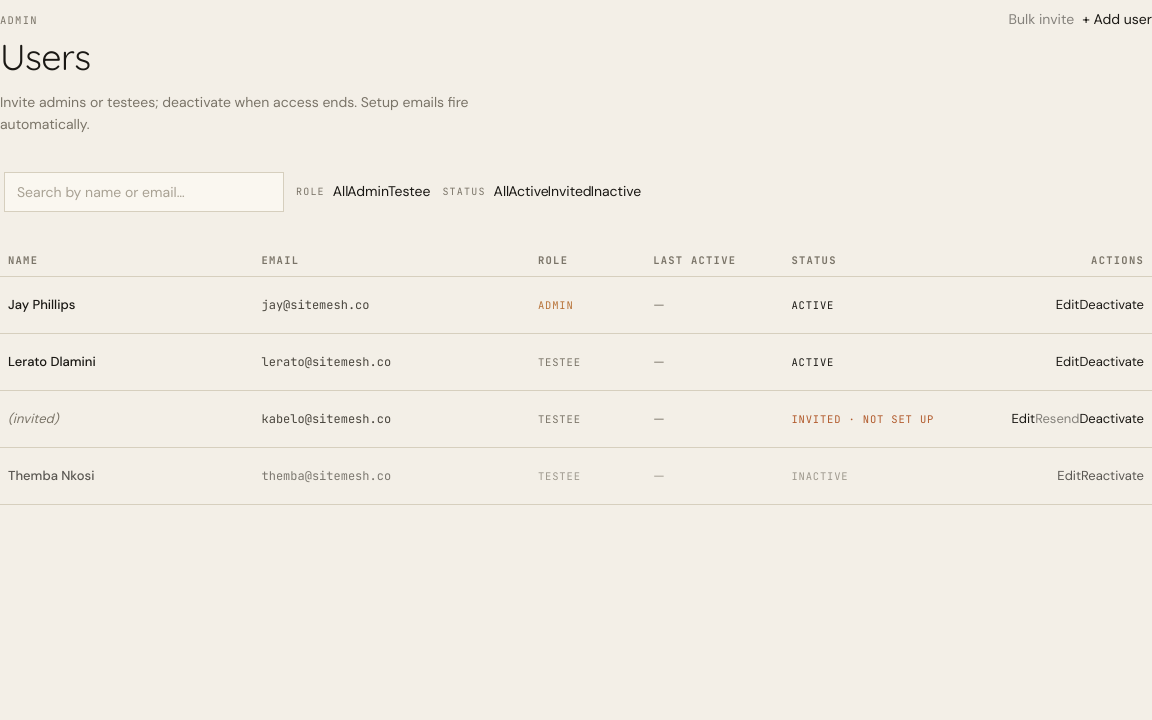
Test: users list — Add user flow › creates a user via POST and shows in the list
Click the button with test id "users-add-button".
click(1117, 20)  # box [1082,0,1151,40]
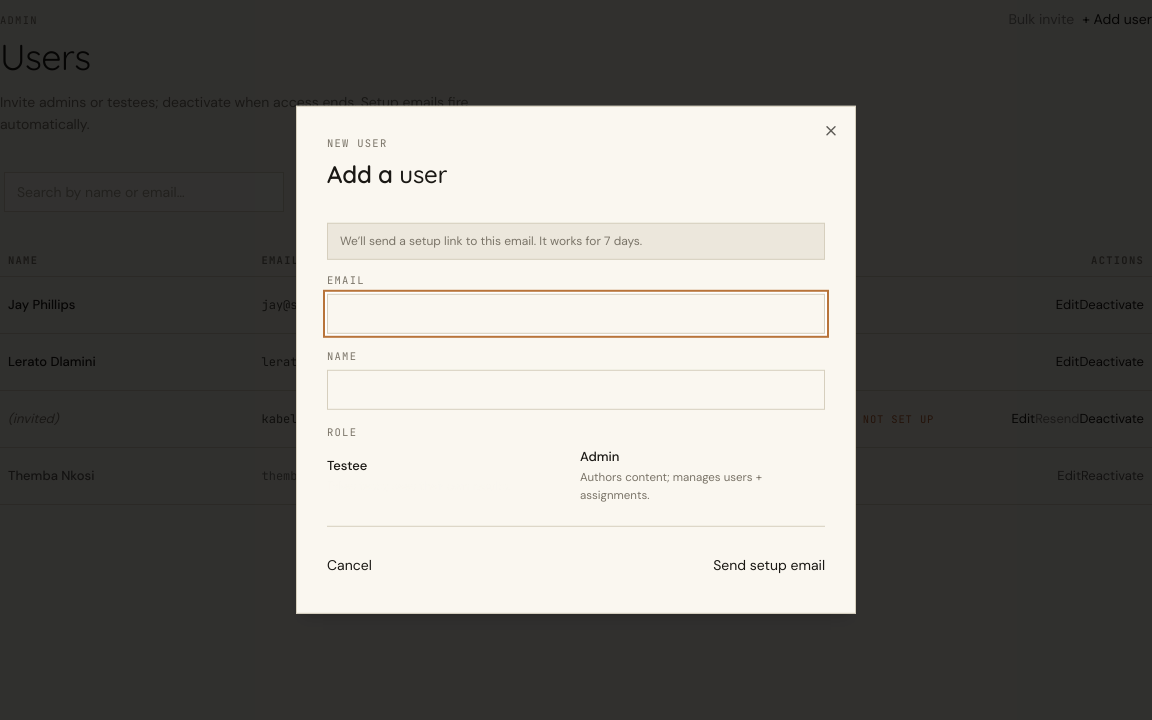
Check: the form with test id "user-add-form" is shown, box [327,223,825,585]
Type "newadmin@sitemesh.co" into the field with test id "user-add-email".
click(576, 314); type("newadmin@sitemesh.co")  # box [327,294,825,334]
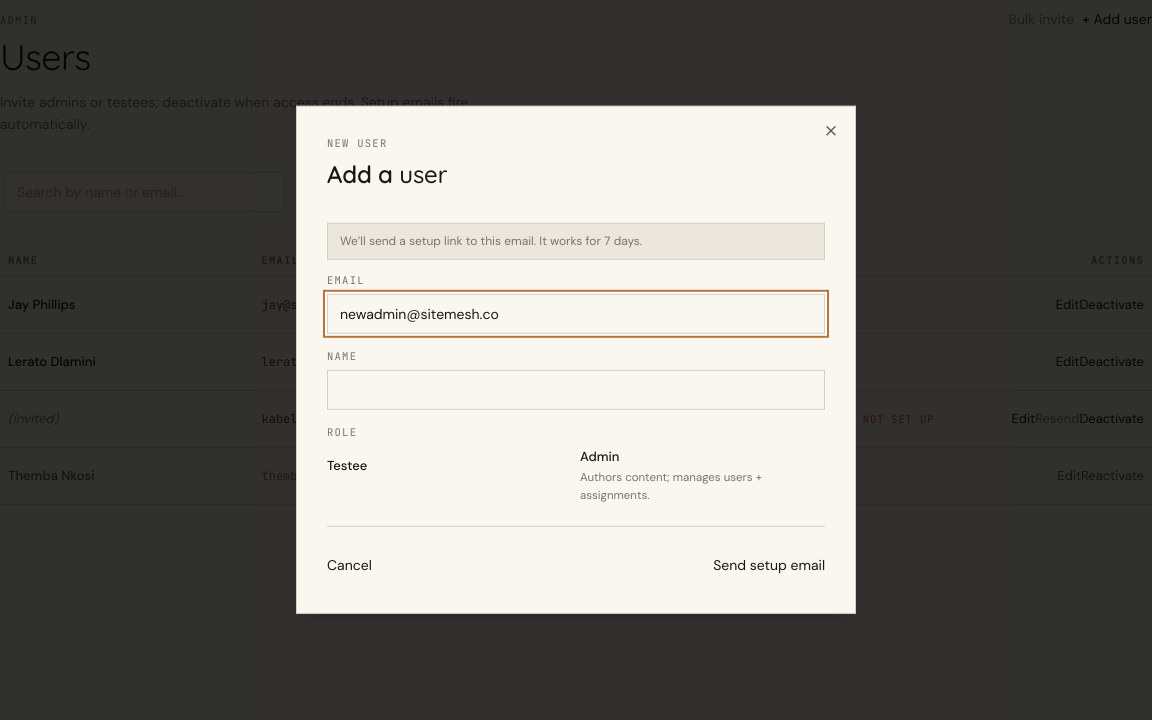
Type "New Admin" into the field with test id "user-add-name".
click(576, 390); type("New Admin")  # box [327,370,825,410]
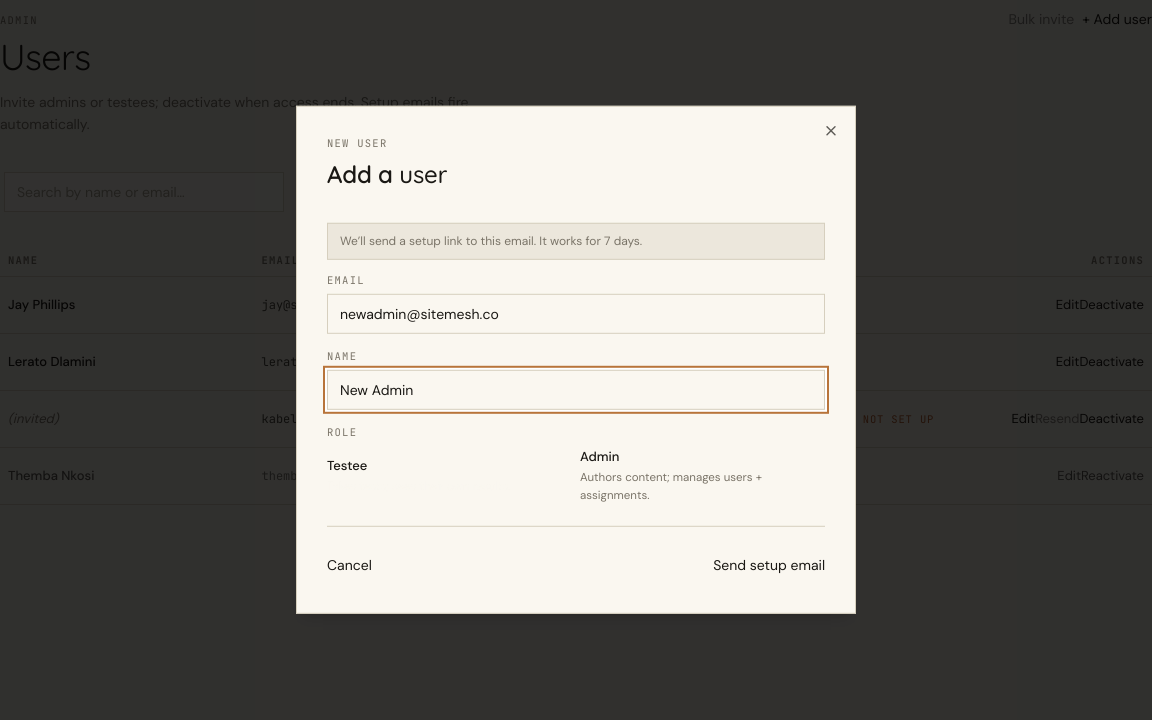
Click the radio button with test id "role-choice-admin".
click(702, 475)  # box [580,446,825,504]
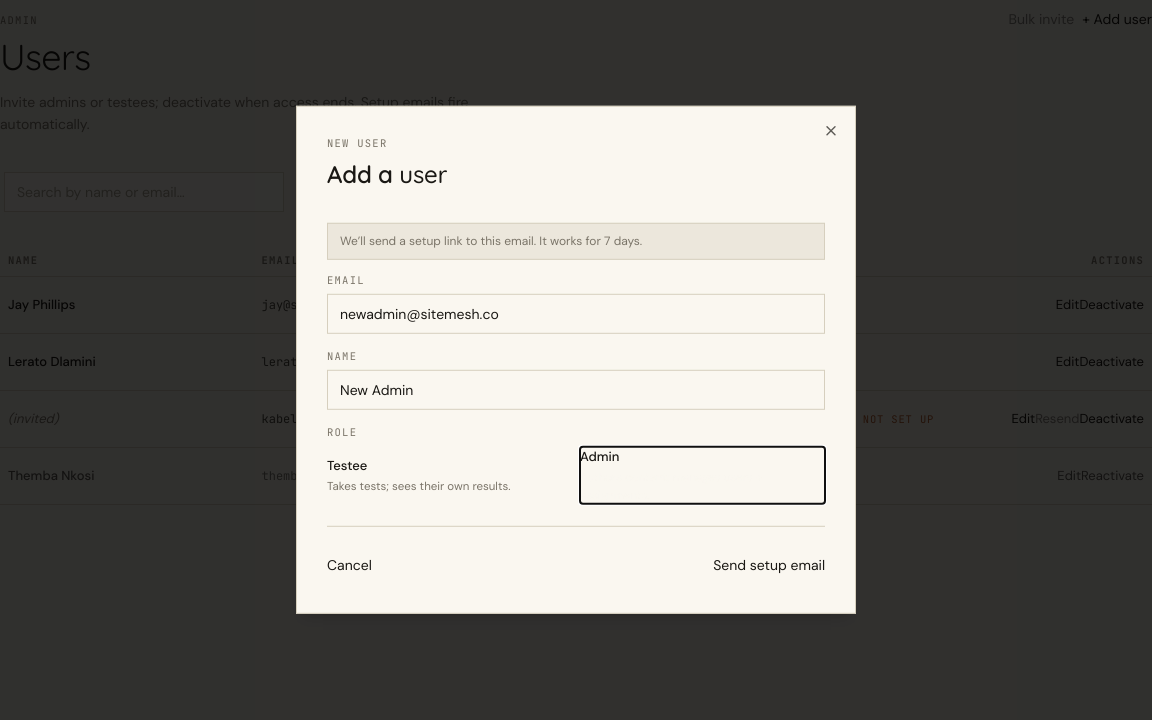
Click the button with test id "user-add-submit".
click(769, 565)  # box [713,545,825,585]
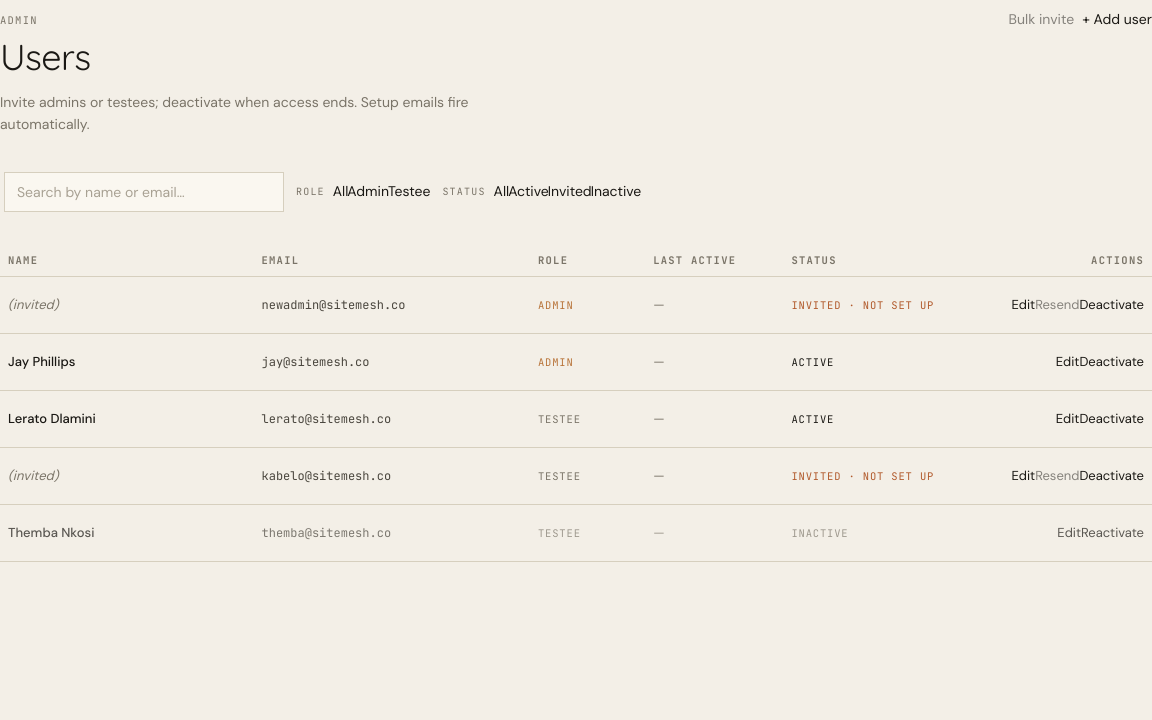
Check: the form with test id "user-add-form" is gone
